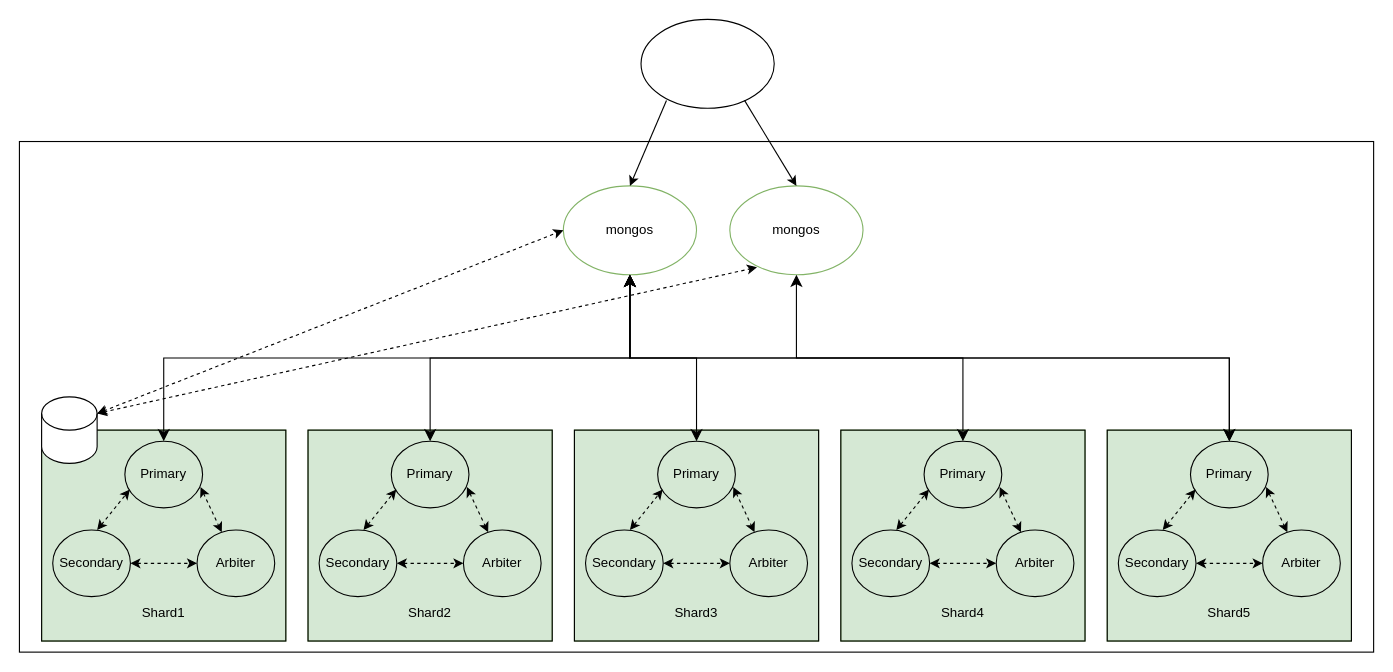
Some shapes in this 1393 by 672 pixel diagram are drawn without their labels. The centre of each missing label's shape, as x and y in pixels:
"config" belongs at pixel 69 429.
"L4" belongs at pixel 707 63.
